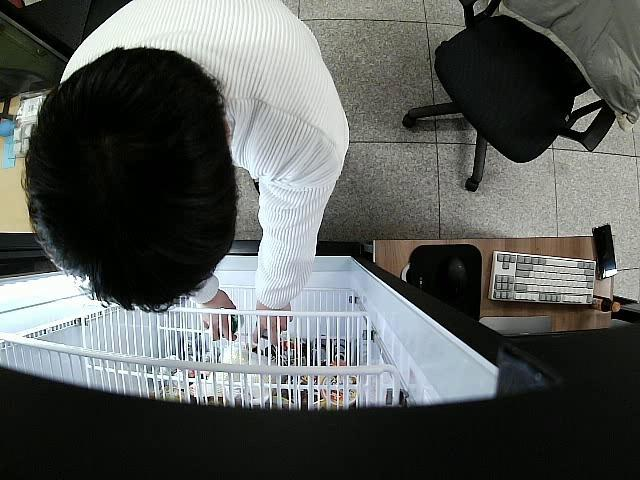12_chilsungCider: (231, 314, 244, 334)
